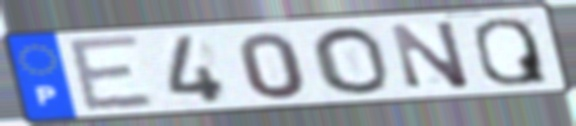0: (234, 28, 311, 102)
4: (162, 32, 229, 106)
E: (63, 34, 159, 116)
N: (386, 17, 475, 91)
O: (307, 25, 394, 96)
Q: (469, 15, 552, 88)
